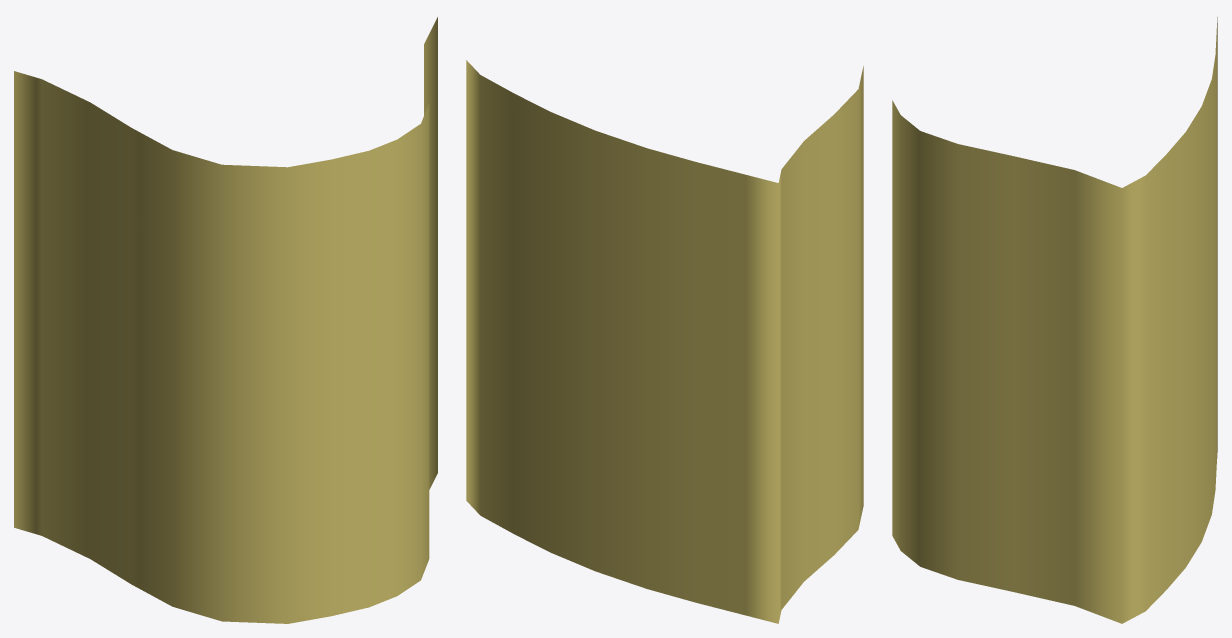
Rendered from anterior-horn-of-spinal-cord.glb.
The picture shows the model from 3 angles, left to right: view 1: azimuth 30°, elevation 25°; view 2: azimuth 150°, elevation 25°; view 3: azimuth 270°, elevation 25°; orthographic projection. The views are drawn at different scales.
Parts seen in each view (by area): view 1: Anterior horn of spinal cord; view 2: Anterior horn of spinal cord; view 3: Anterior horn of spinal cord.
Part boxes in pixels (box(x1,y1,x2,y2)): Anterior horn of spinal cord: box(14, 17, 437, 623); Anterior horn of spinal cord: box(466, 60, 863, 623); Anterior horn of spinal cord: box(892, 17, 1217, 623).
Size of the model in its own units: 0.00428 by 0.005 by 0.00338.
